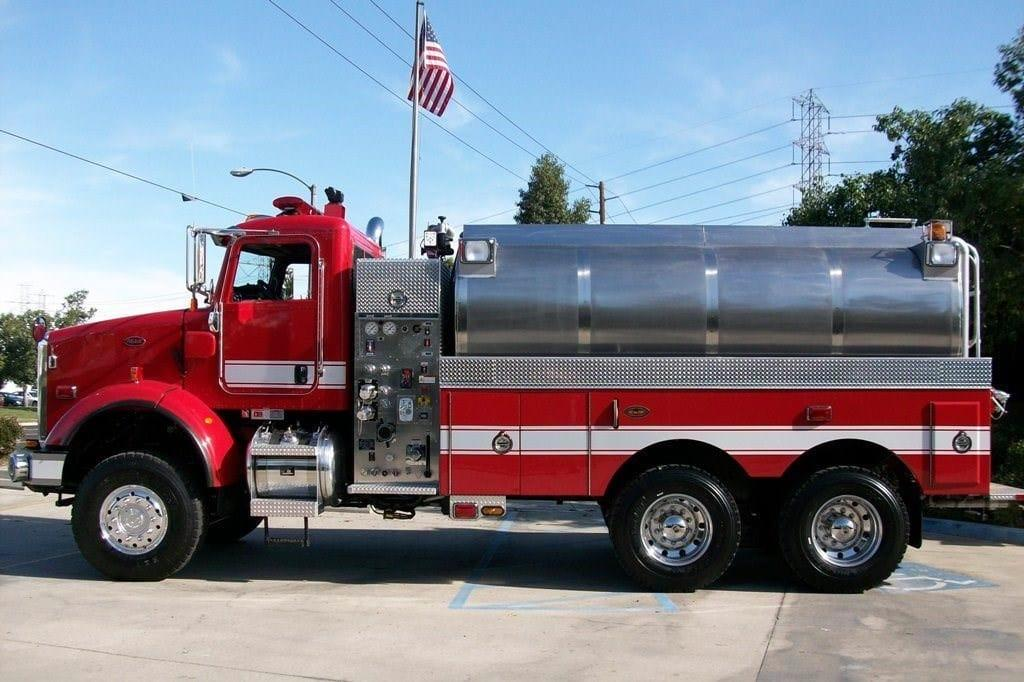Fire-engine: (6, 181, 1015, 592)
